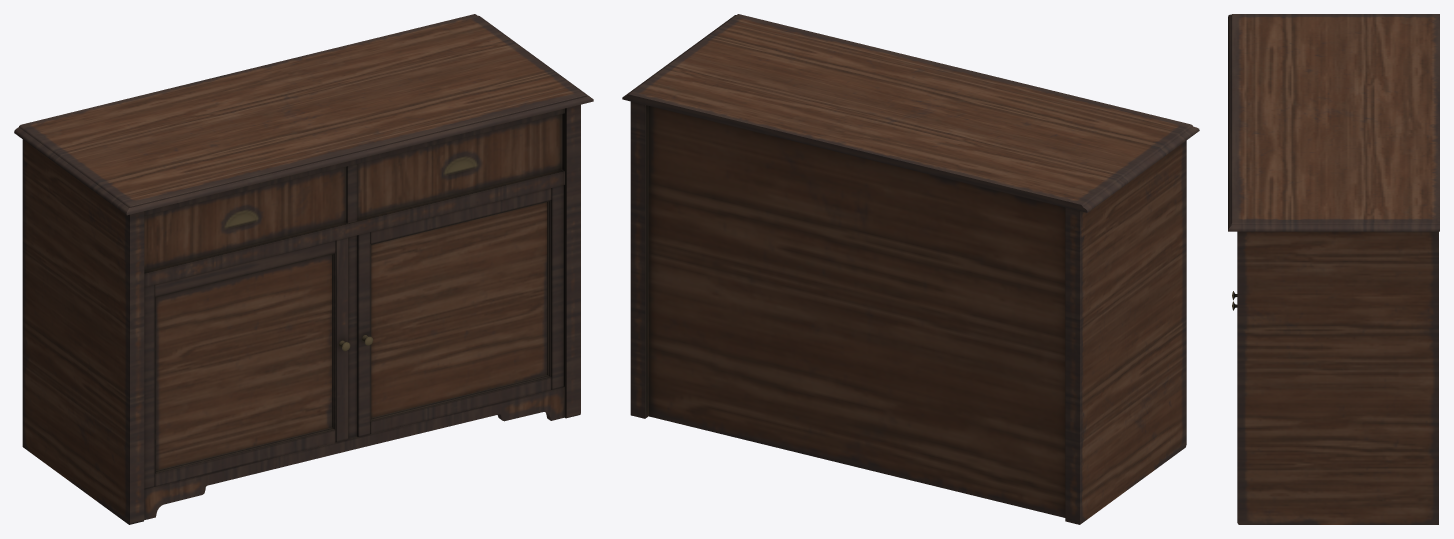
Rendered from Cupboard_02.fbx.
3 views of the same model, side by side, from view 1: azimuth 30°, elevation 25°; view 2: azimuth 150°, elevation 25°; view 3: azimuth 270°, elevation 25° (orthographic). The views are drawn at different scales.
Parts seen in each view (by area): view 1: Cupboard; view 2: Cupboard; view 3: Cupboard.
Boxes of the visible parts, x1=… form: Cupboard: x1=14, y1=14, x2=593, y2=524; Cupboard: x1=622, y1=14, x2=1199, y2=524; Cupboard: x1=1228, y1=14, x2=1439, y2=524.
Size of the model in its own units: 113 by 74.71 by 47.33.
